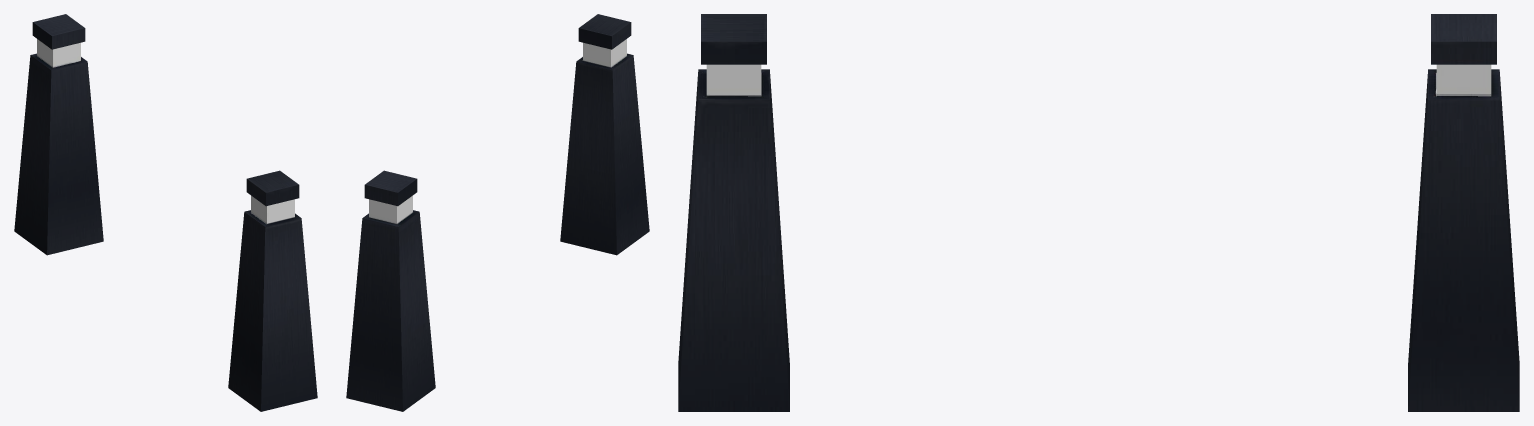
File: street_el_2.glb
The picture shows the model from 3 angles, left to right: view 1: azimuth 30°, elevation 25°; view 2: azimuth 150°, elevation 25°; view 3: azimuth 270°, elevation 25°; orthographic projection. The views are drawn at different scales.
Parts seen in each view (by area): view 1: street_el_2; view 2: street_el_2; view 3: street_el_2.
Part boxes in pixels (left/top/right/bottom): street_el_2: left=14, top=14, right=317, bottom=411; street_el_2: left=346, top=14, right=649, bottom=411; street_el_2: left=678, top=14, right=1519, bottom=411.
Size of the model in its own units: 0.2 by 0.7118 by 1.51.
1 material, 1 textured.
